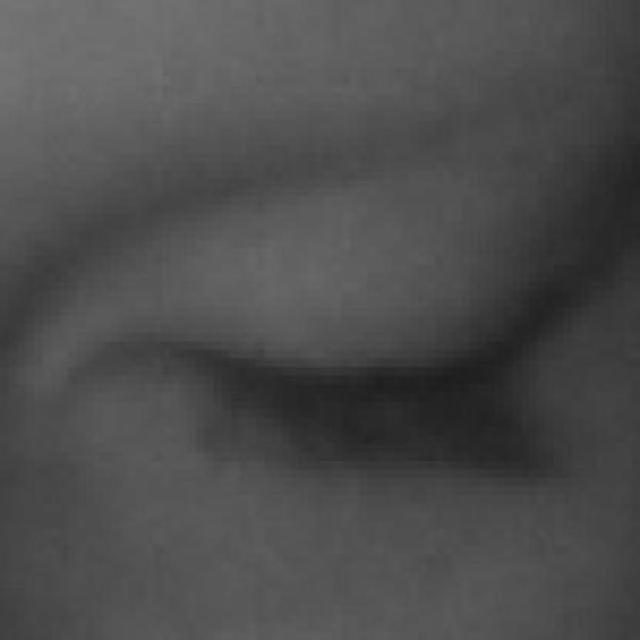drowsy: (135, 142, 560, 602)
